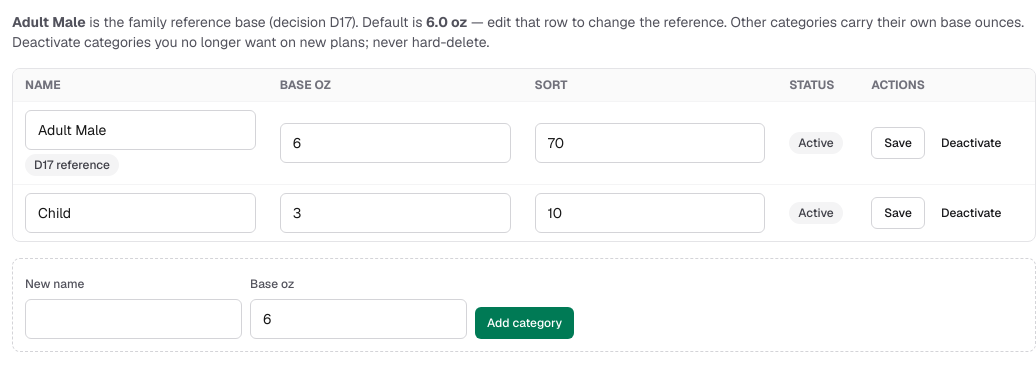
Test: PortionCategoriesPanel › rejects base oz ≤ 0 on save
The image size is (1036, 369).
Replace the text in the number field with test id "portion-base-oz-adult-male" with "0": (395, 143) [280,123,511,163]
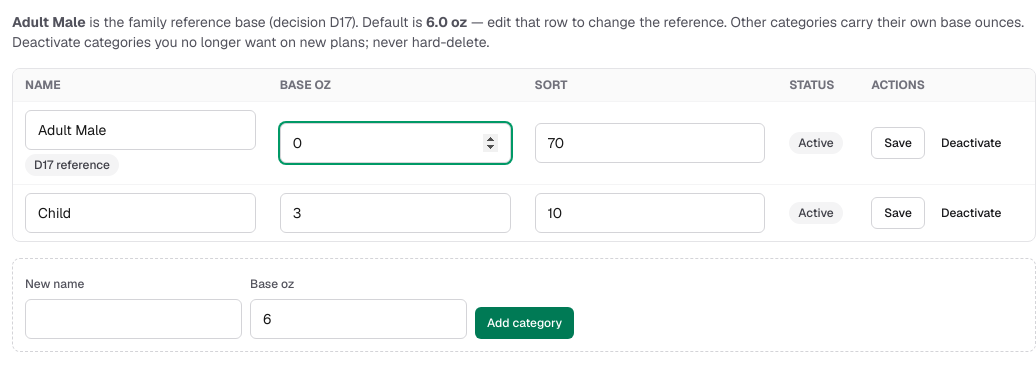
Click the button with test id "portion-save-adult-male": (898, 143) [871,127,925,159]
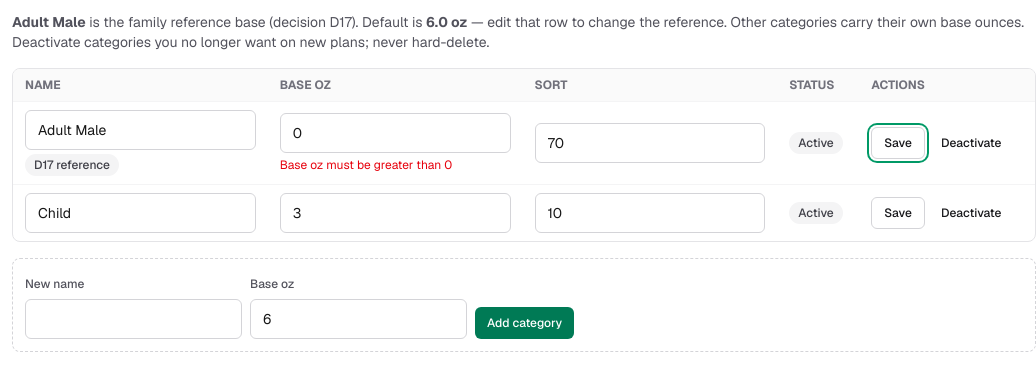
Expected: the text with test id "portion-error-adult-male" shows "greater than 0", [280,157,452,173]
